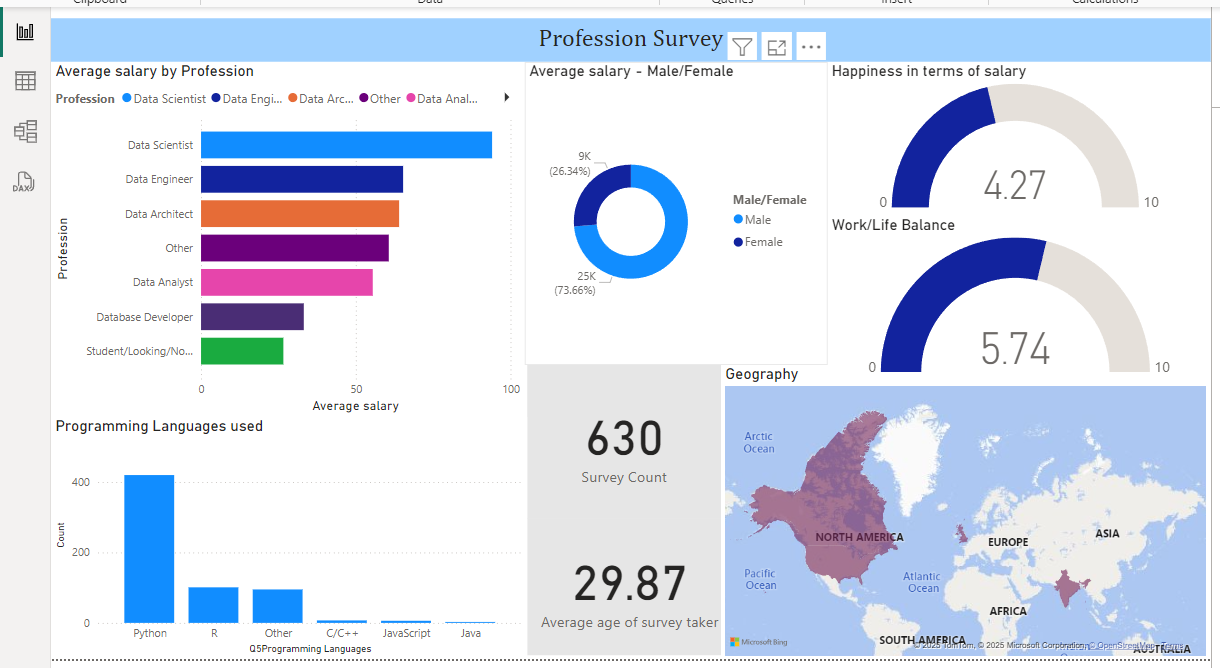

This screenshot's page, from the dashboard's own definition file:
{"tool":"powerbi","page":{"name":"Page 1","canvas":[1280,720],"ordinal":0},"visuals":[{"type":"textbox","box":[0,12.1,1280.3,48.3],"z":0},{"type":"card","fields":{"Values":["Count(Data Professional Survey.Unique ID)"]},"box":[525.4,394.1,214.4,170.6],"z":1},{"type":"card","fields":{"Values":["Avg(Data Professional Survey.Q10 - Current Age)"]},"box":[525.4,564.7,226.5,151],"z":2},{"type":"barChart","title":"Average salary by Profession","fields":{"Category":["Data Professional Survey.Q1 - Which Title Best Fits your Current Role?.1"],"Y":["Avg(Data Professional Survey.Average salary)"],"Series":["Data Professional Survey.Q1 - Which Title Best Fits your Current Role?.1"]},"box":[0,60.4,522.4,392.5],"z":3},{"type":"clusteredColumnChart","title":"Programming Languages used","fields":{"Category":["Data Professional Survey.Q5 - Favorite Programming Language.1"],"Y":["CountNonNull(Data Professional Survey.Unique ID)"]},"box":[0,452.9,525.4,267.2],"z":4},{"type":"filledMap","title":"Geography","fields":{"Category":["Data Professional Survey.Q11 - Which Country do you live in?.1"]},"box":[739.8,394.1,540.5,326.1],"z":5},{"type":"gauge","title":"Work/Life Balance","fields":{"Y":["Avg(Data Professional Survey.Q6 - How Happy are you in your Current Position with the following? (Work/Life Balance))"],"MinValue":["Min(Data Professional Survey.Q6 - How Happy are you in your Current Position with the following? (Work/Life Balance))"],"MaxValue":["Max(Data Professional Survey.Q6 - How Happy are you in your Current Position with the following? (Work/Life Balance))1"]},"box":[856.1,231,424.3,182.7],"z":6},{"type":"gauge","title":"Happiness in terms of salary","fields":{"Y":["Avg(Data Professional Survey.Q6 - How Happy are you in your Current Position with the following? (Salary))"],"MinValue":["Min(Data Professional Survey.Q6 - How Happy are you in your Current Position with the following? (Salary))"],"MaxValue":["Max(Data Professional Survey.Q6 - How Happy are you in your Current Position with the following? (Salary))"]},"box":[856.1,60.4,424.3,170.6],"z":7},{"type":"donutChart","title":"Average salary  - Male/Female","fields":{"Category":["Data Professional Survey.Q9 - Male/Female?"],"Y":["Sum(Data Professional Survey.Average salary)"]},"box":[522.4,60.4,333.7,333.7],"z":8}]}

Visuals, with their boxes on the page's 1280x720 design canvas (x1, y1, x2, y2). These are canvas units, not pixel positions in the 1220x668 screenshot, which may show the page scaled, cropped or inside an application window:
textbox: region(0, 12, 1280, 60)
card - Count(Data Professional Survey.Unique ID): region(525, 394, 740, 565)
card - Avg(Data Professional Survey.Q10 - Current Age): region(525, 565, 752, 716)
"Average salary by Profession" barChart: region(0, 60, 522, 453)
"Programming Languages used" clusteredColumnChart: region(0, 453, 525, 720)
"Geography" filledMap: region(740, 394, 1280, 720)
"Work/Life Balance" gauge: region(856, 231, 1280, 414)
"Happiness in terms of salary" gauge: region(856, 60, 1280, 231)
"Average salary  - Male/Female" donutChart: region(522, 60, 856, 394)
